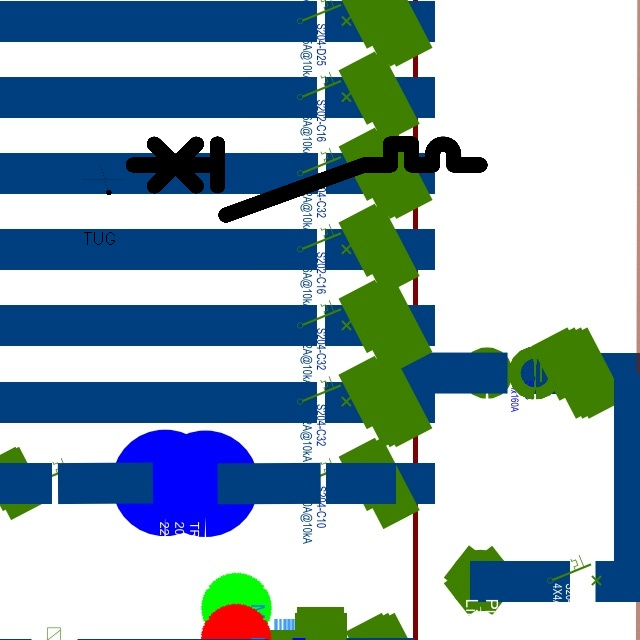interruptor_termomagnetico: (124, 135, 489, 224)
